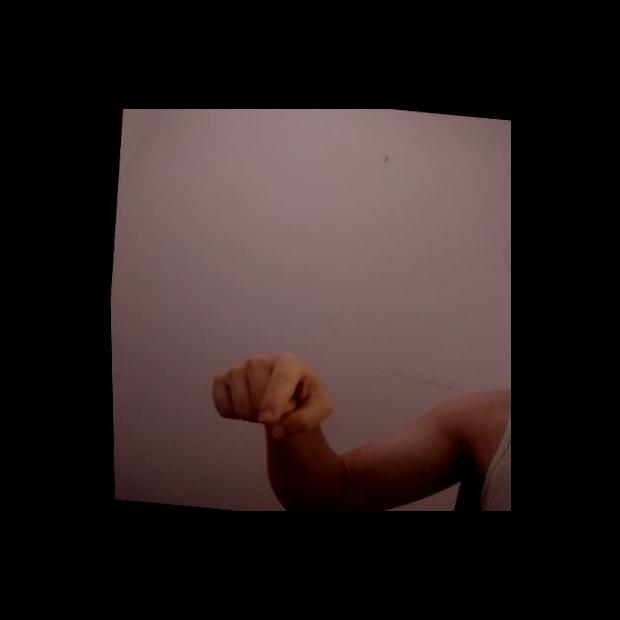Y: (202, 343, 342, 447)
